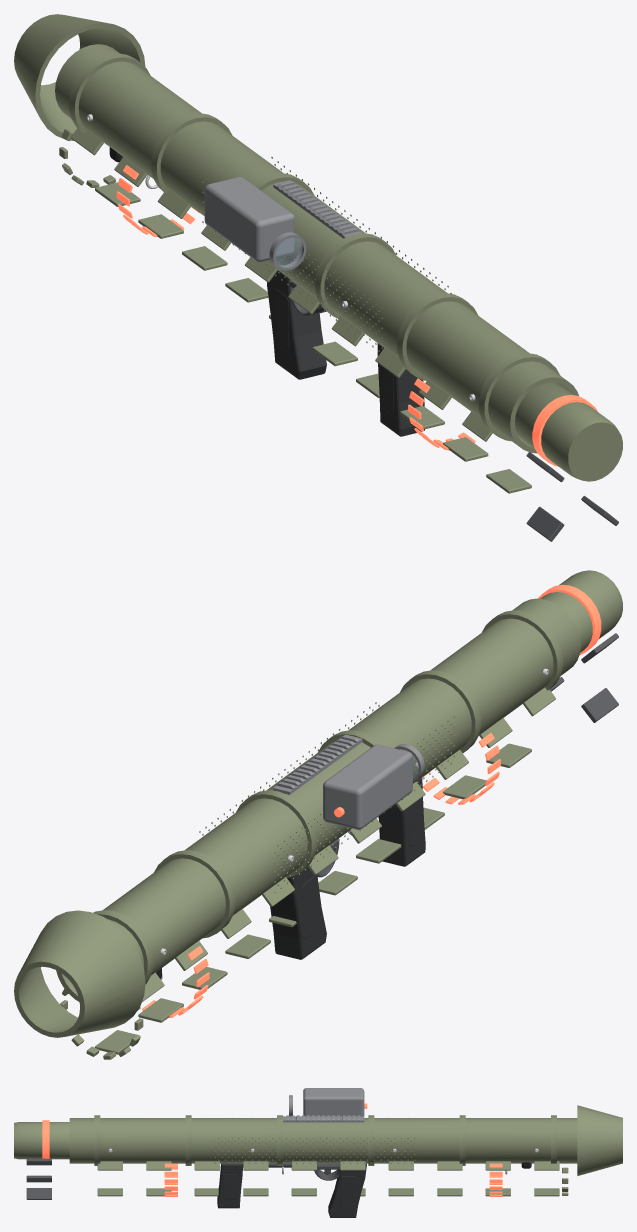
Rendered from mega-weapon-pack-rocket-launcher-5bbb1aae__33349.glb.
The picture shows the model from 3 angles, top to bottom: view 1: azimuth 30°, elevation 25°; view 2: azimuth 150°, elevation 25°; view 3: azimuth 270°, elevation 25°; orthographic projection. The views are drawn at different scales.
Visible parts, largest first — view 1: rocket-launcher; view 2: rocket-launcher; view 3: rocket-launcher.
Part boxes in pixels (x1,y1,x2,y2): rocket-launcher: (14,14,622,541); rocket-launcher: (14,570,622,1059); rocket-launcher: (14,1088,622,1217).
Bounding box in the file's own units: 0.17 × 0.2305 × 1.2.
